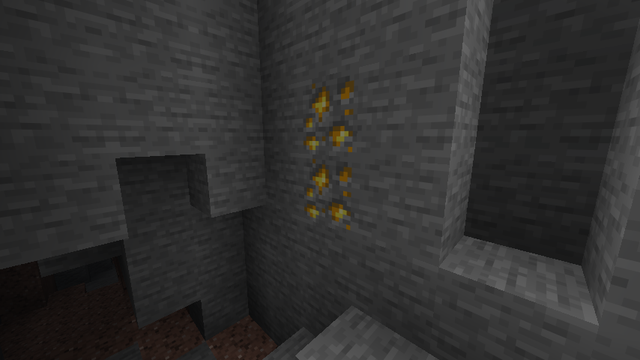gold: (301, 81, 357, 237)
